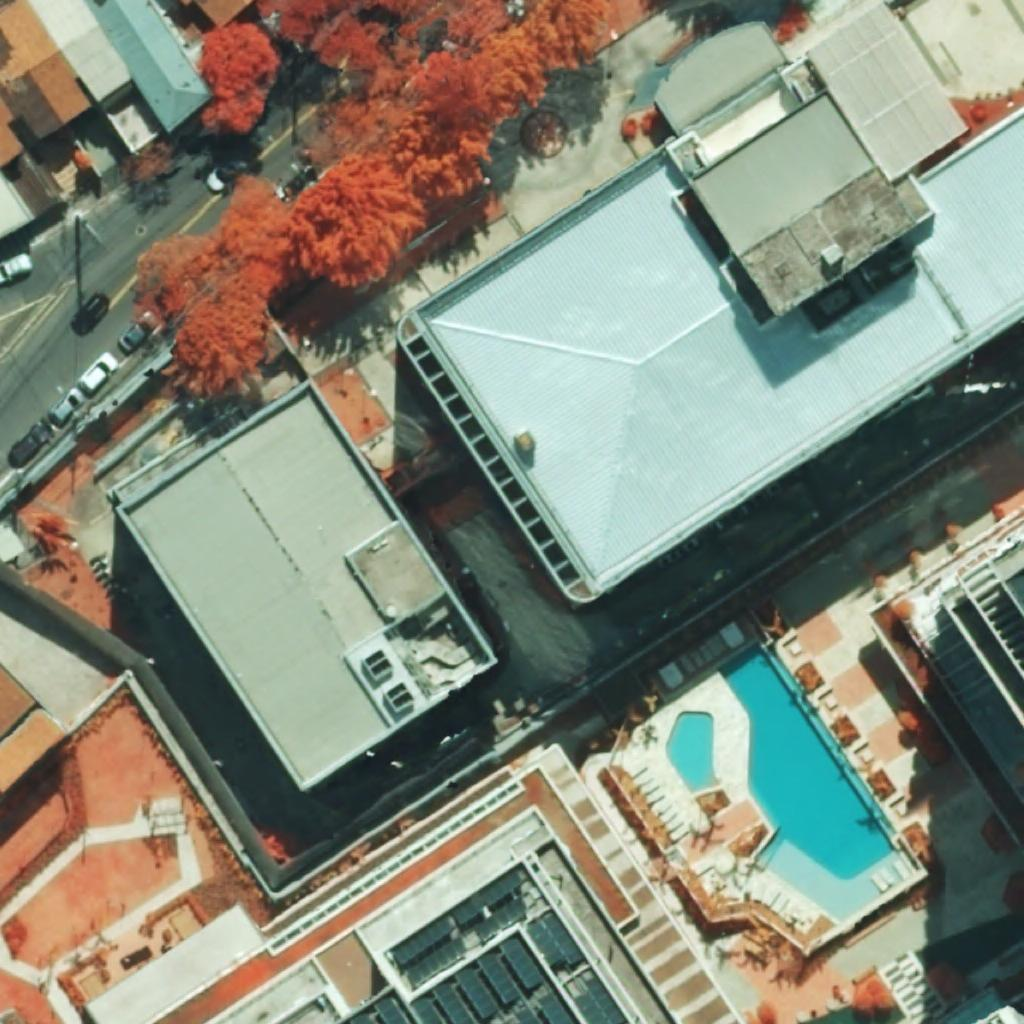pool: (717, 642, 897, 880), (665, 711, 720, 794), (799, 1005, 906, 1024)
